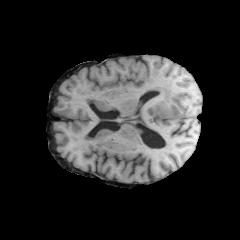glioma: (86, 69, 180, 125)
